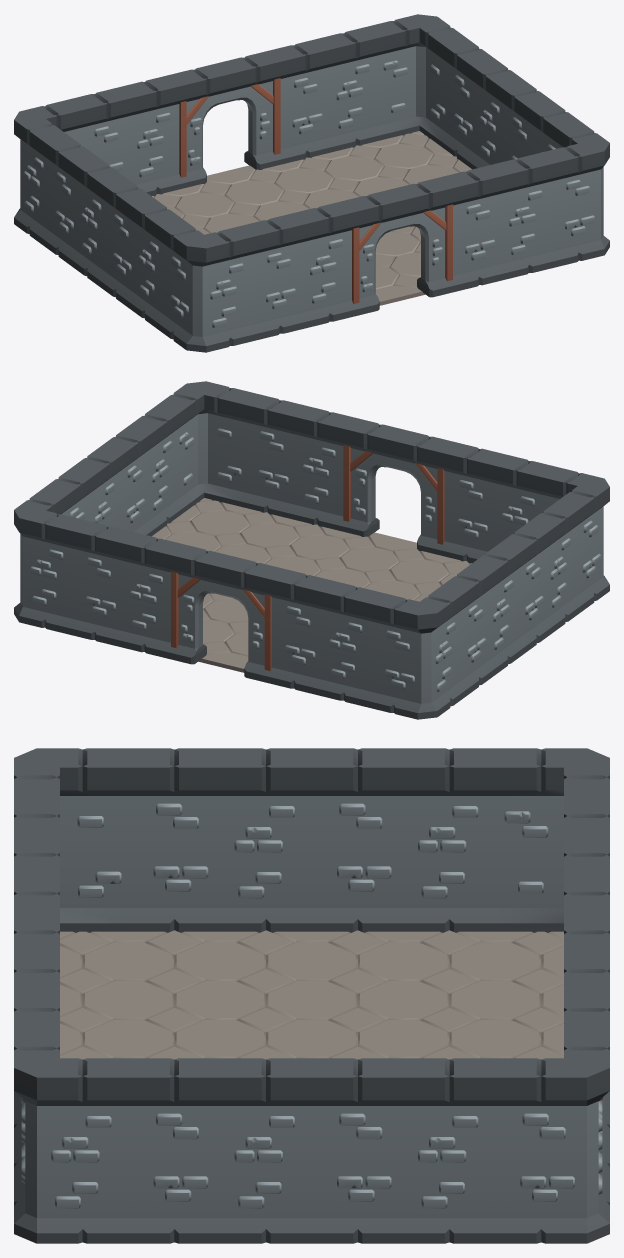
File: I_room.glb
The picture shows the model from 3 angles, top to bottom: view 1: azimuth 30°, elevation 25°; view 2: azimuth 150°, elevation 25°; view 3: azimuth 270°, elevation 25°; orthographic projection. The views are drawn at different scales.
Visible parts, largest first — view 1: floor_tile_small.011; view 2: floor_tile_small.011; view 3: floor_tile_small.011.
Boxes of the visible parts, x1,y1,x2,y2 form: floor_tile_small.011: (14, 14, 609, 352); floor_tile_small.011: (14, 381, 609, 719); floor_tile_small.011: (14, 748, 609, 1243).
Bounding box in the file's own units: 17 × 4.1 × 13.
5 materials, 5 textured.
